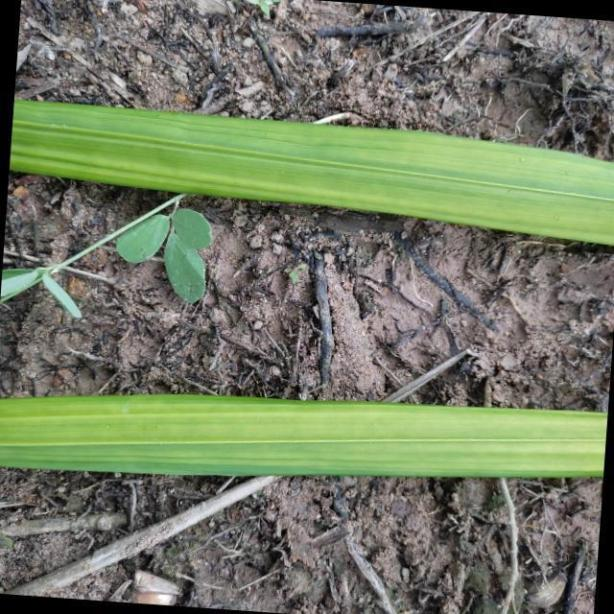nitrogen: (3, 88, 614, 248), (0, 389, 614, 478)
